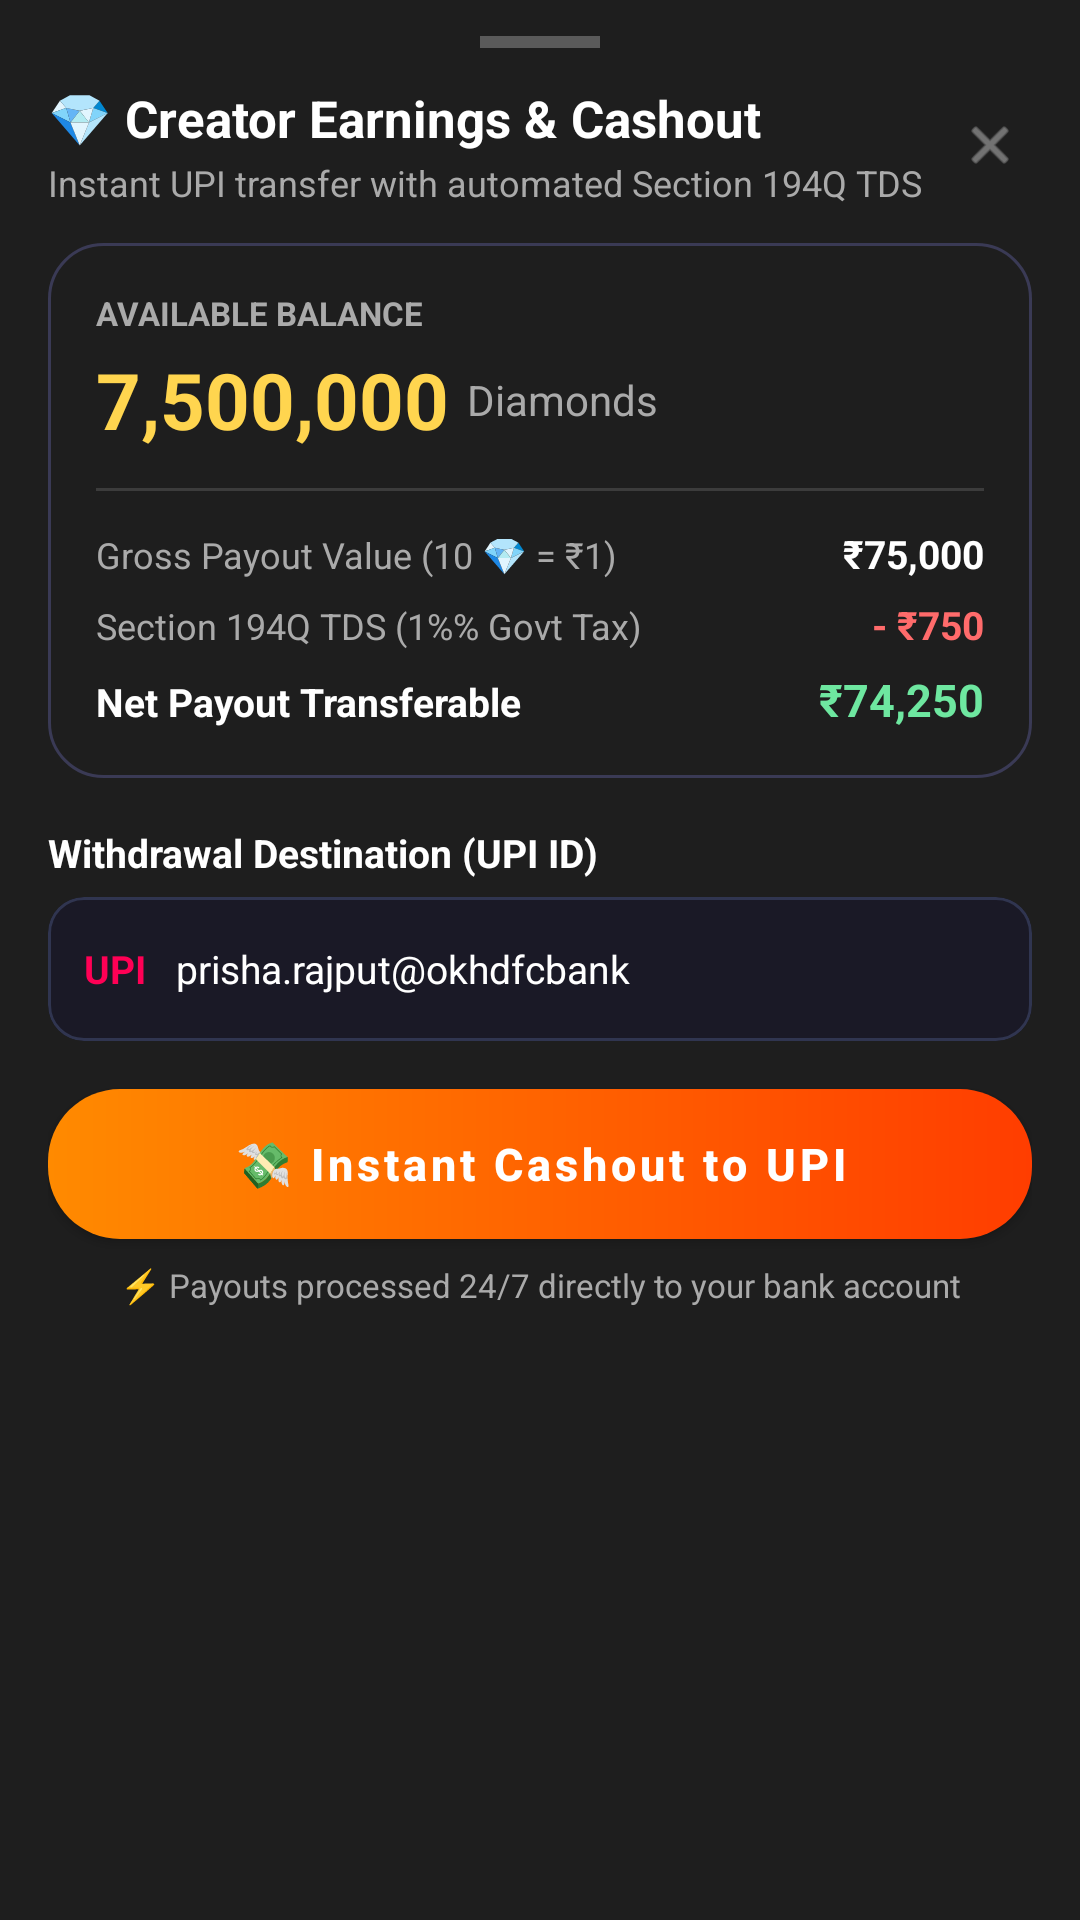

Where to tap for icons on this 1080 × 1920 app screen, as [x,y]:
Close: [990,145]
